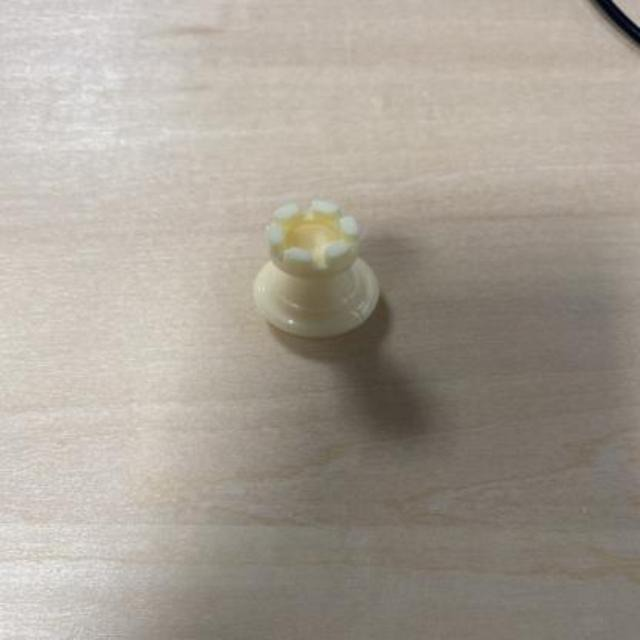black-rook: (248, 198, 383, 341)
